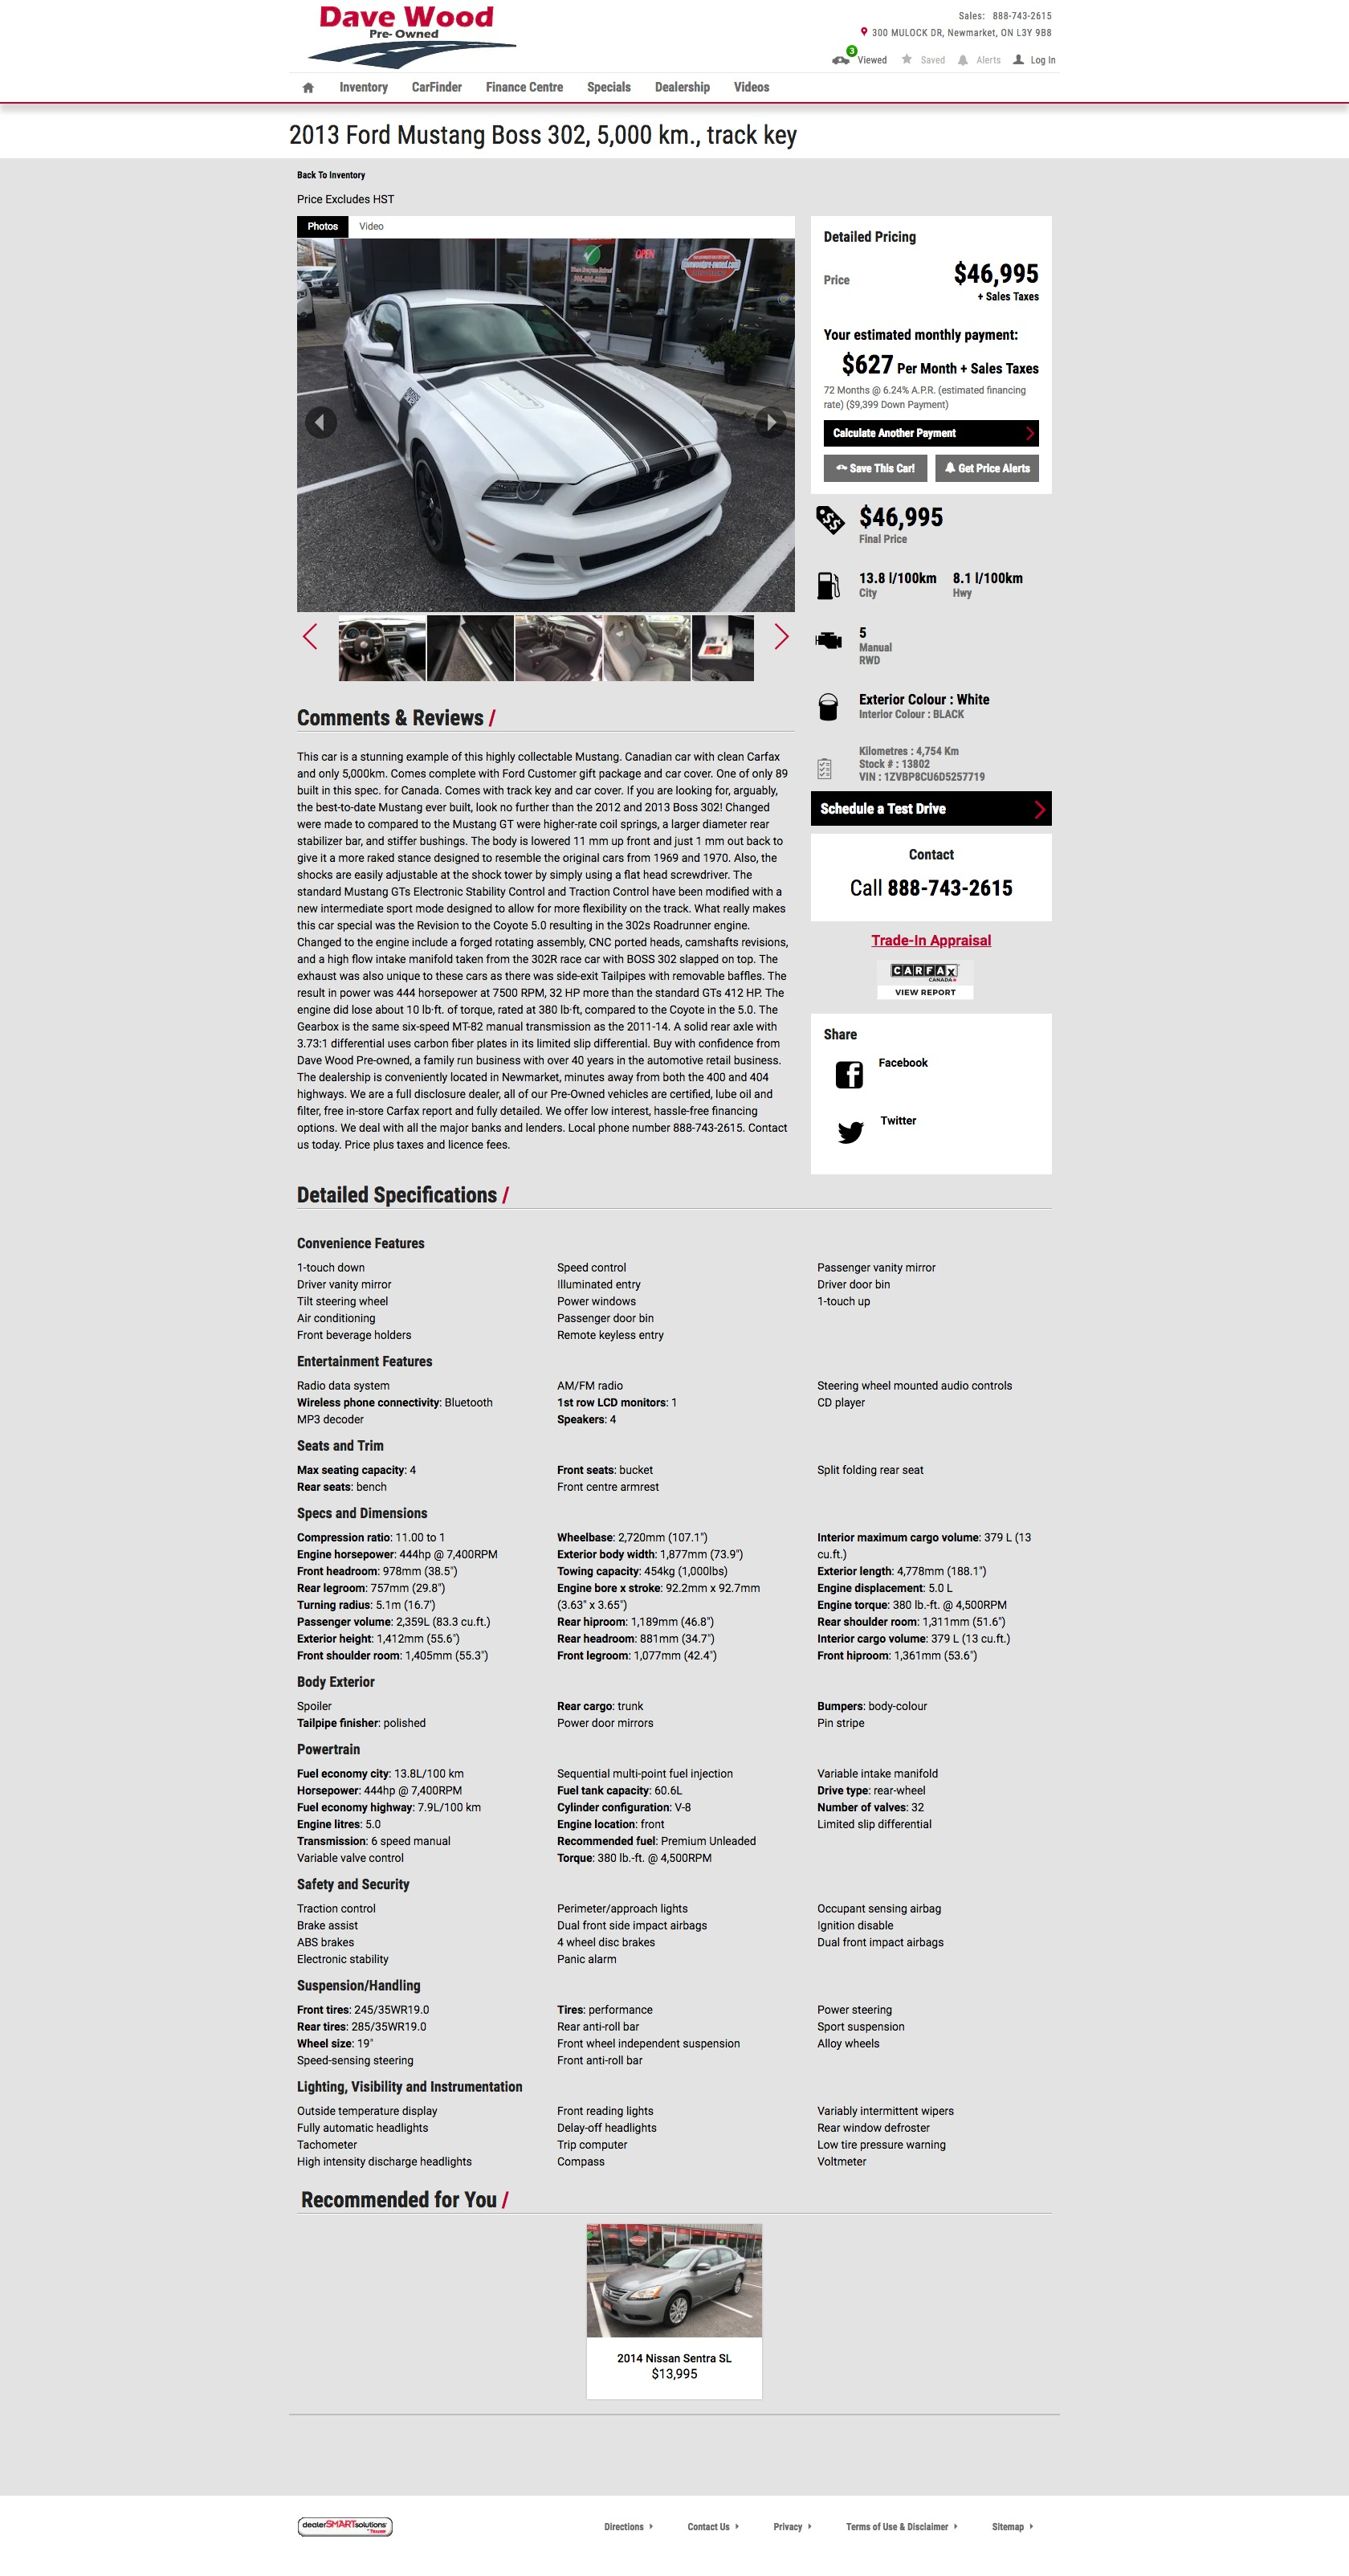car: (775, 624, 790, 649)
